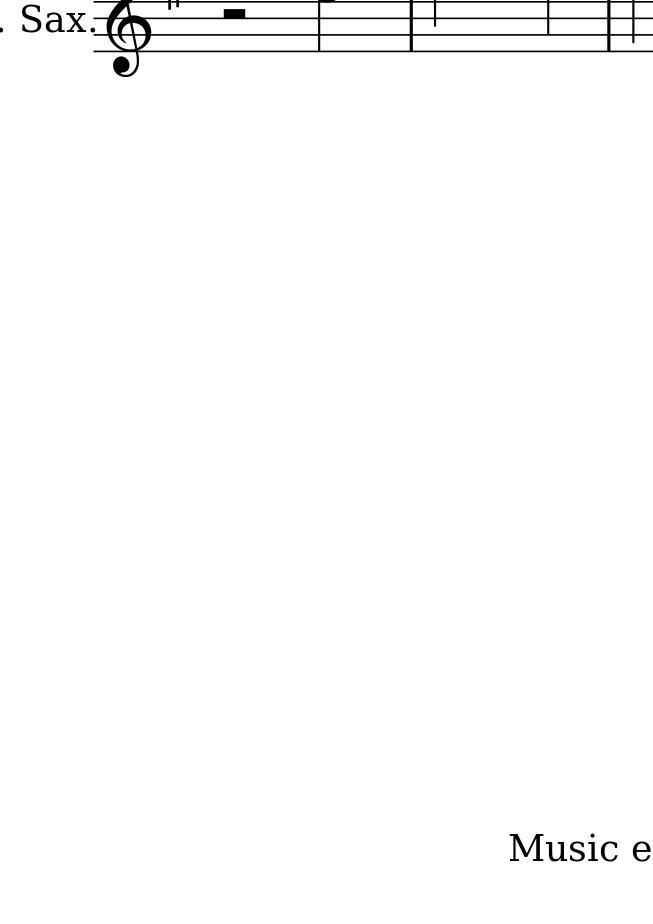Rests2: (218, 7, 248, 26)
Sax: (18, 6, 88, 38)
